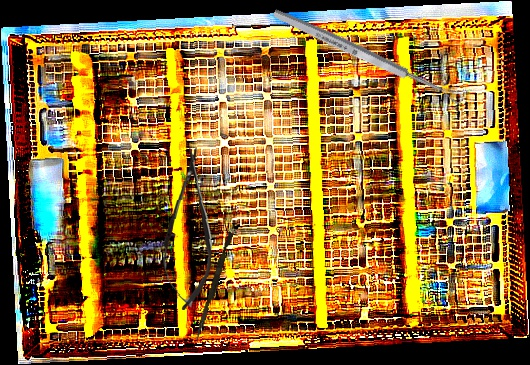Micro Scissor: (159, 145, 218, 312)
Pusher: (194, 231, 234, 343)
Surgical Spoon: (271, 6, 465, 107)
